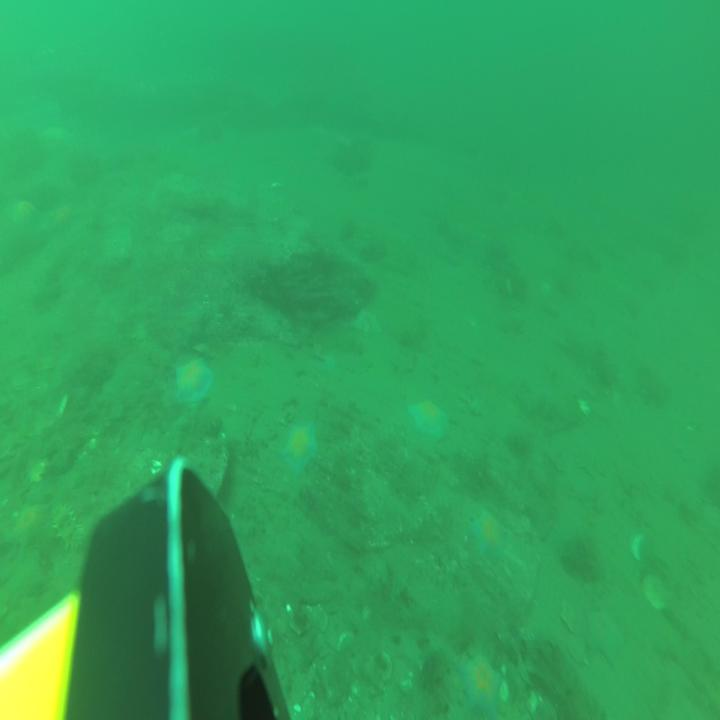holothurian: (55, 504, 84, 549)
scallop: (643, 570, 670, 614)
starfish: (459, 654, 502, 717), (584, 606, 624, 668), (8, 499, 49, 550), (174, 359, 214, 410), (284, 420, 319, 478), (472, 507, 507, 559), (412, 397, 447, 441), (11, 198, 36, 236), (50, 201, 74, 235)
